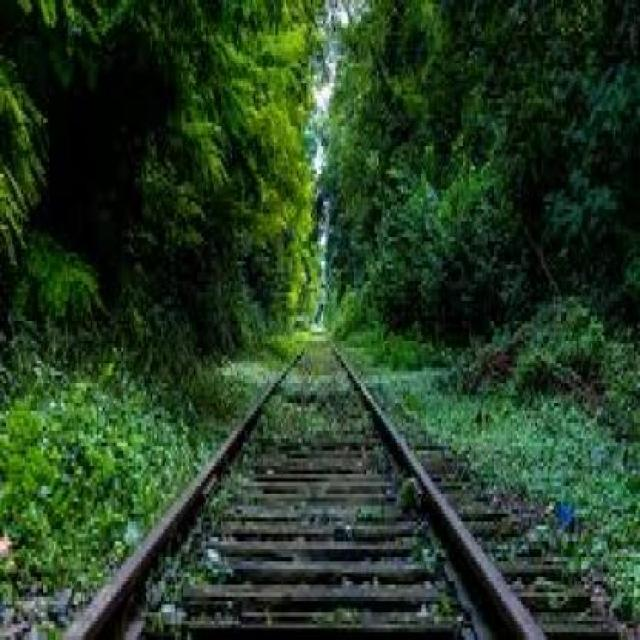rail: (57, 303, 564, 640)
